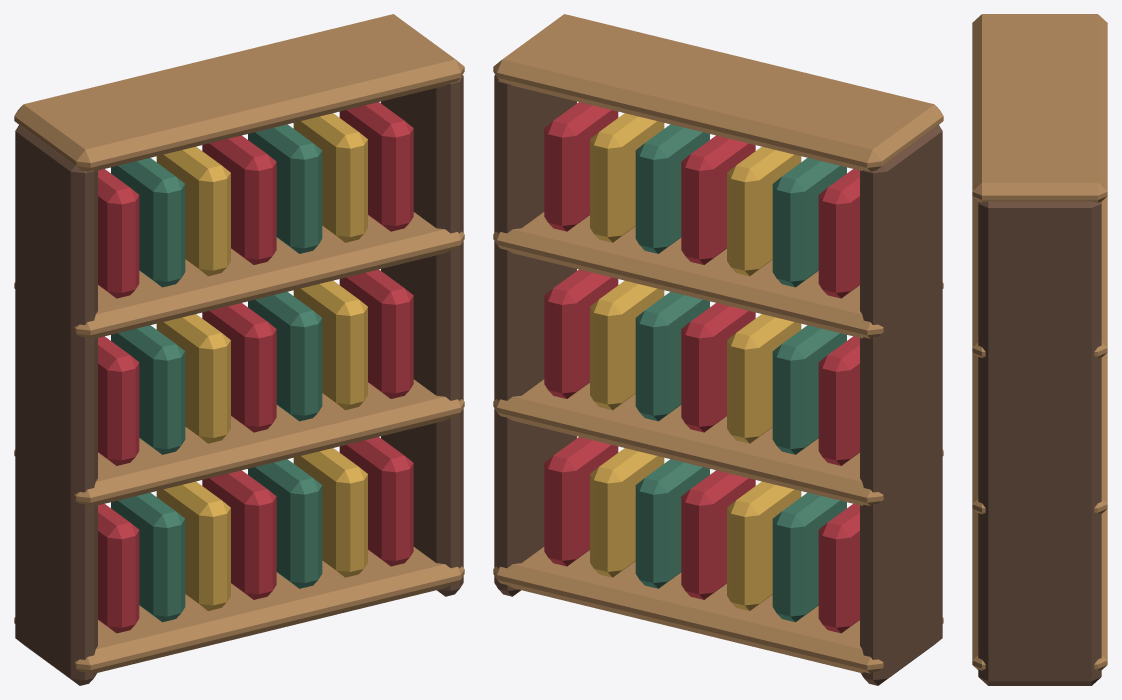
The model's file is bookcase.glb.
The picture shows the model from 3 angles, left to right: view 1: azimuth 30°, elevation 25°; view 2: azimuth 150°, elevation 25°; view 3: azimuth 270°, elevation 25°; orthographic projection. The views are drawn at different scales.
Parts seen in each view (by area): view 1: shelf-side, shelf-board.003, shelf-side.001, shelf-board, shelf-board.001, shelf-board.002, book.011, book.015, book.004, book.001, book.008, book.018 (+15 smaller); view 2: shelf-side, shelf-board.003, shelf-side.001, shelf-board, shelf-board.001, shelf-board.002, book.011, book.015, book.004, book.001, book.008, book.018 (+15 smaller); view 3: shelf-side.001, shelf-board.003, shelf-board.001, shelf-board, shelf-board.002.
Boxes of the visible parts, <box> form: shelf-side: <box>15,125,97,685</box>; shelf-board.003: <box>14,14,464,171</box>; shelf-side.001: <box>381,75,463,596</box>; shelf-board: <box>14,547,464,673</box>; shelf-board.001: <box>14,379,464,506</box>; shelf-board.002: <box>14,212,464,338</box>; book.011: <box>248,291,322,421</box>; book.015: <box>111,158,185,287</box>; book.004: <box>248,459,322,588</box>; book.001: <box>111,492,185,622</box>; book.008: <box>111,325,185,454</box>; book.018: <box>248,124,322,253</box>; shelf-side: <box>860,125,942,685</box>; shelf-board.003: <box>493,14,943,171</box>; shelf-side.001: <box>494,75,576,596</box>; shelf-board: <box>493,547,943,673</box>; shelf-board.001: <box>493,379,943,506</box>; shelf-board.002: <box>493,212,943,338</box>; book.011: <box>635,291,709,421</box>; book.015: <box>772,158,846,287</box>; book.004: <box>635,459,709,588</box>; book.001: <box>772,492,846,622</box>; book.008: <box>772,325,846,454</box>; book.018: <box>635,124,709,253</box>; shelf-side.001: <box>978,201,1101,685</box>; shelf-board.003: <box>972,14,1107,202</box>; shelf-board.001: <box>972,353,1107,514</box>; shelf-board: <box>972,509,1107,670</box>; shelf-board.002: <box>972,196,1107,357</box>.
Size of the model in its own units: 1.72 by 2.25 by 0.55.
